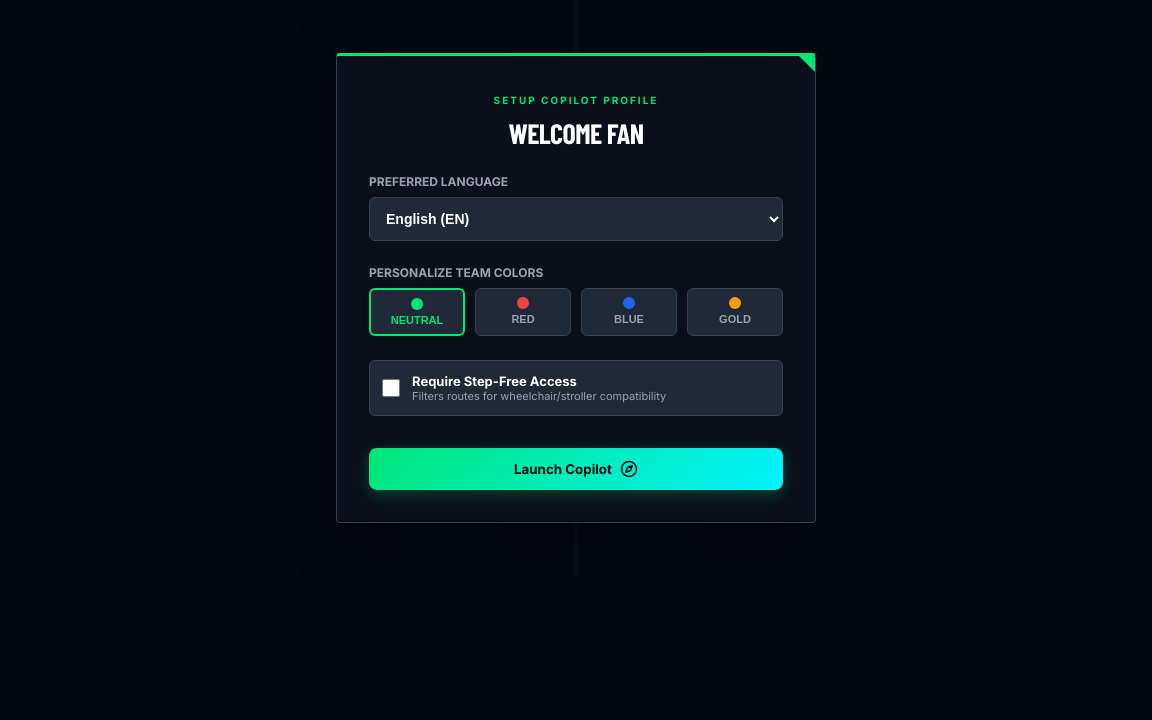
Scenario: FanChat Component › renders home page after setup and navigates to copilot chat
The image size is (1152, 720).
Click the button "Launch Copilot": (576, 469) [369,448,783,490]
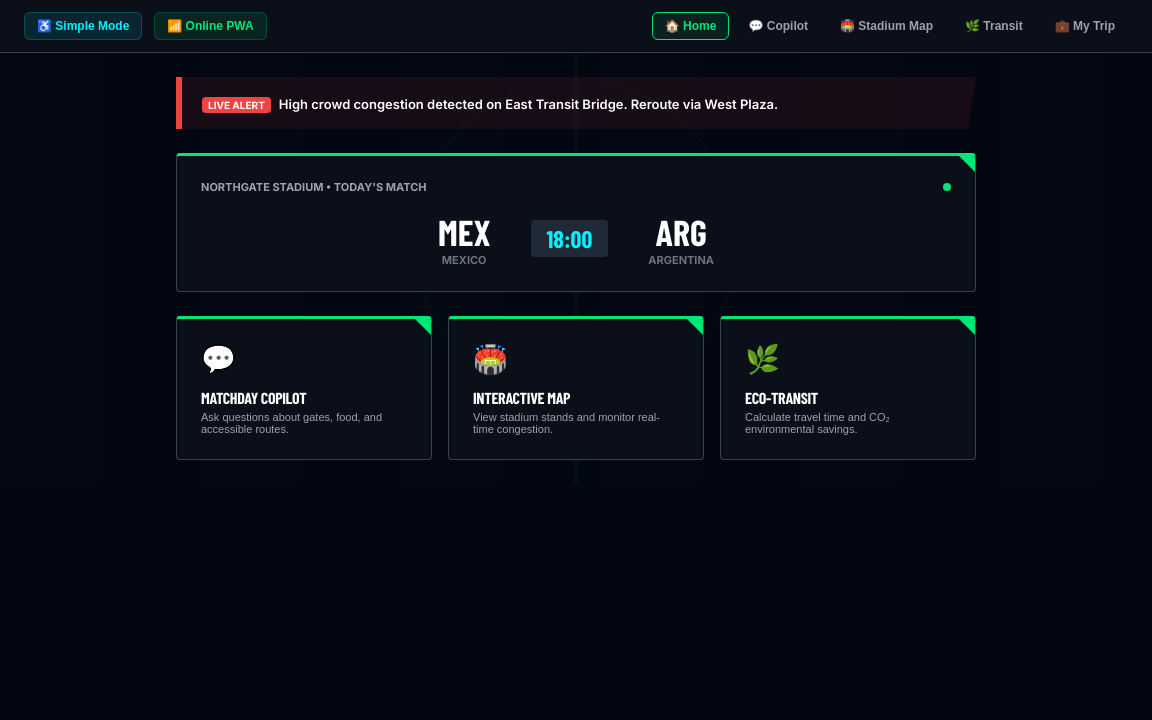
expect the button "💬 Copilot" is shown: met
Click the button "💬 Copilot": (778, 26) [735,12,821,40]
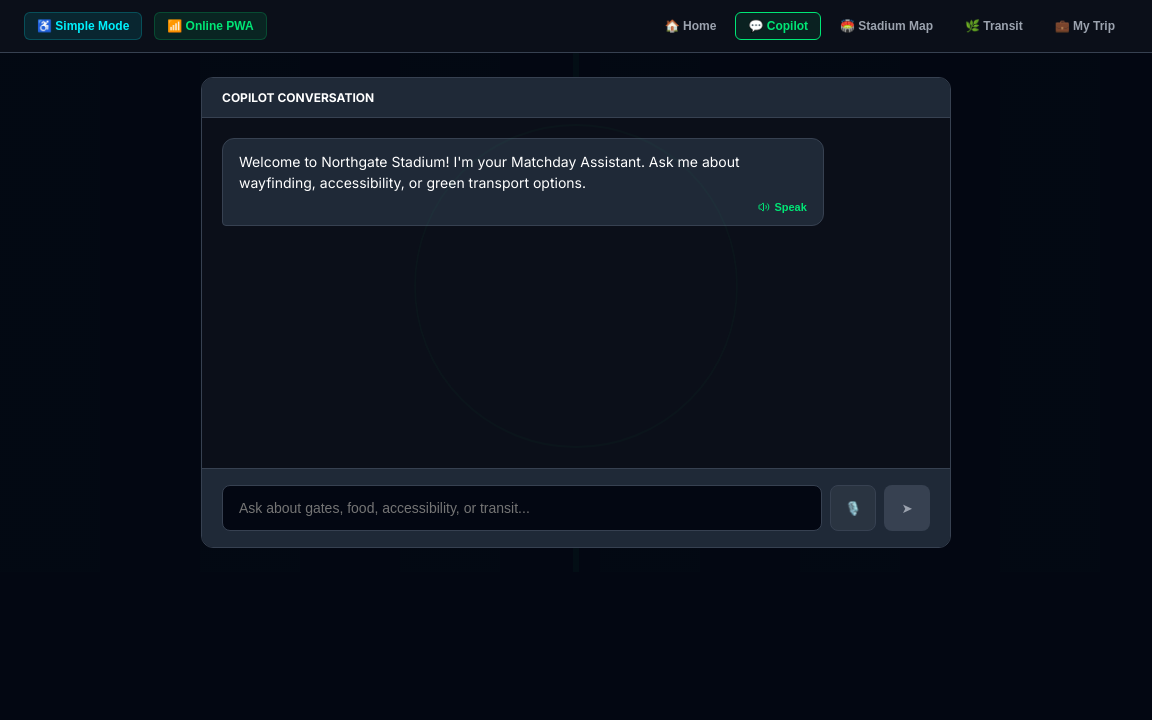
expect the text "Welcome to Northgate Stadium! I'm your Matchday Assistant" is shown: met, box [239,153,740,191]
expect the field with placeholder "Ask about gates, food, accessibility, or transit..." is shown: met, box [222,485,822,531]
